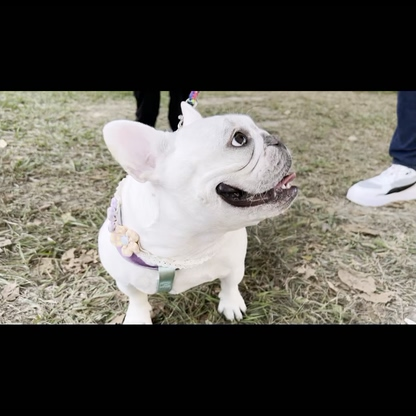bulldog: (93, 100, 303, 323)
